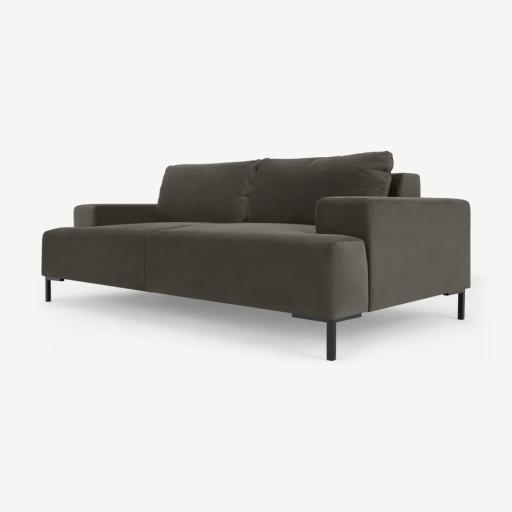back_cushion: (156, 152, 394, 224)
left_arm: (317, 197, 470, 312)
legs: (292, 314, 361, 360), (45, 276, 64, 302), (453, 290, 464, 319)
right_arm: (74, 204, 155, 226)
seat_cushion: (43, 224, 367, 318)
two-seater: (0, 0, 511, 512)
